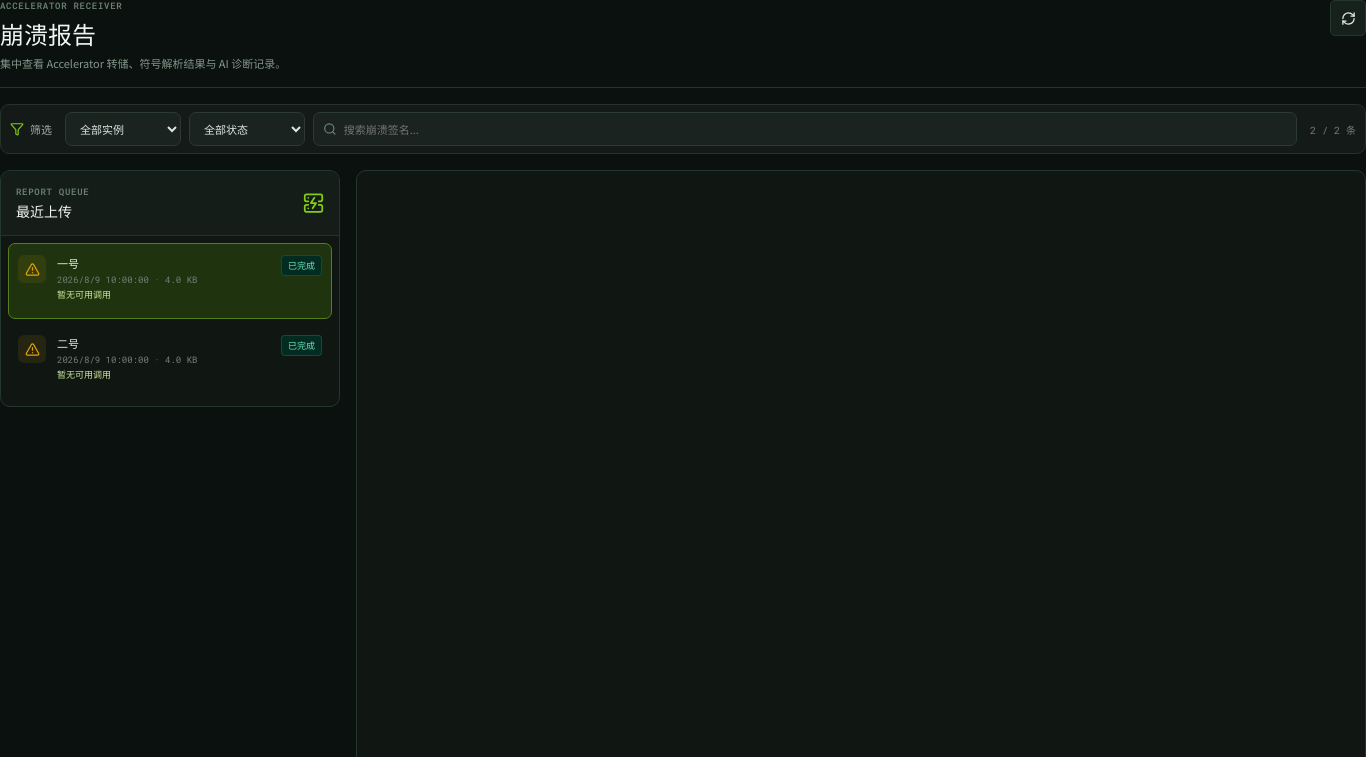
Test case: CrashReportsPage › filters reports by instance and signature
Expected: the number of list items is 2, [8, 243, 332, 319]; [8, 323, 332, 399]
Select "二号" in the dropdown named "筛选实例" at (123, 129), box [65, 112, 181, 146]
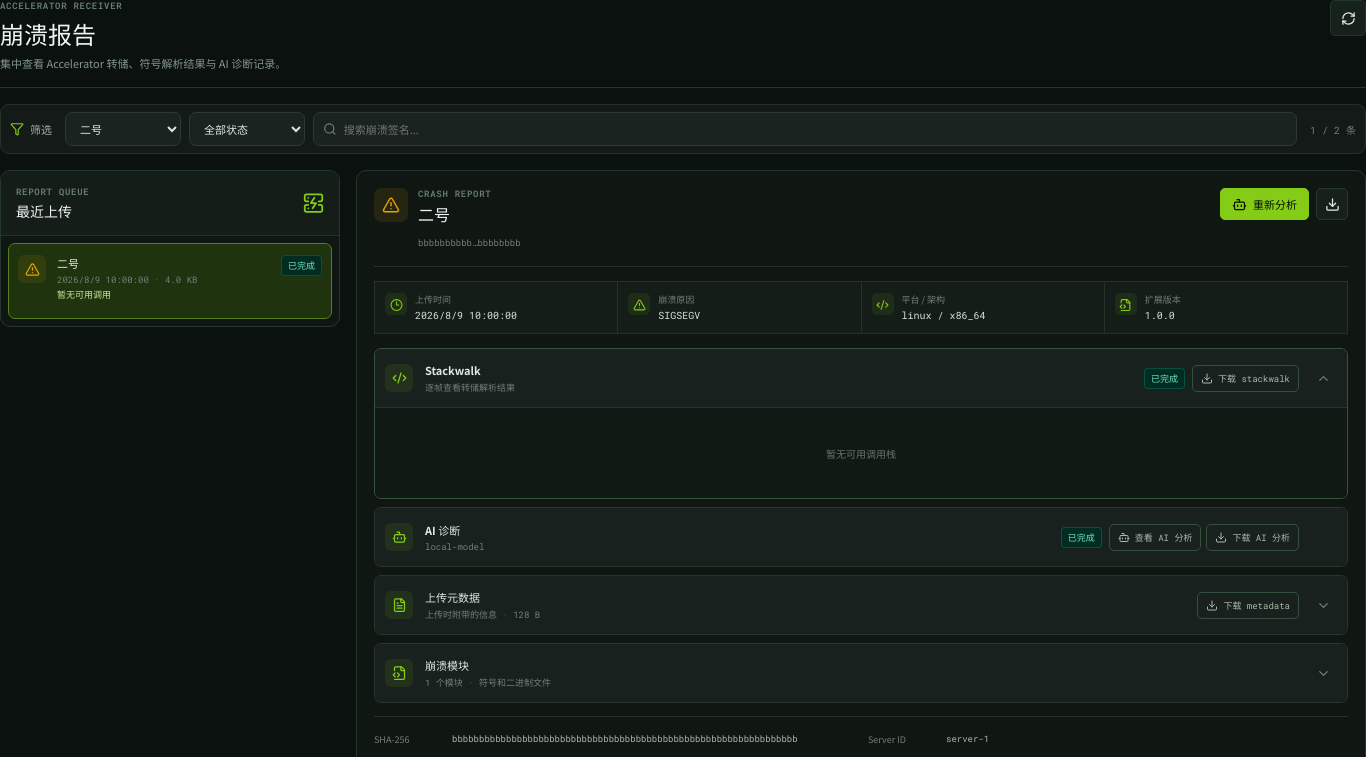
Type "ACCESS_VIOLATION" into the search field labelled "搜索崩溃签名" at (815, 129), box [344, 113, 1287, 145]
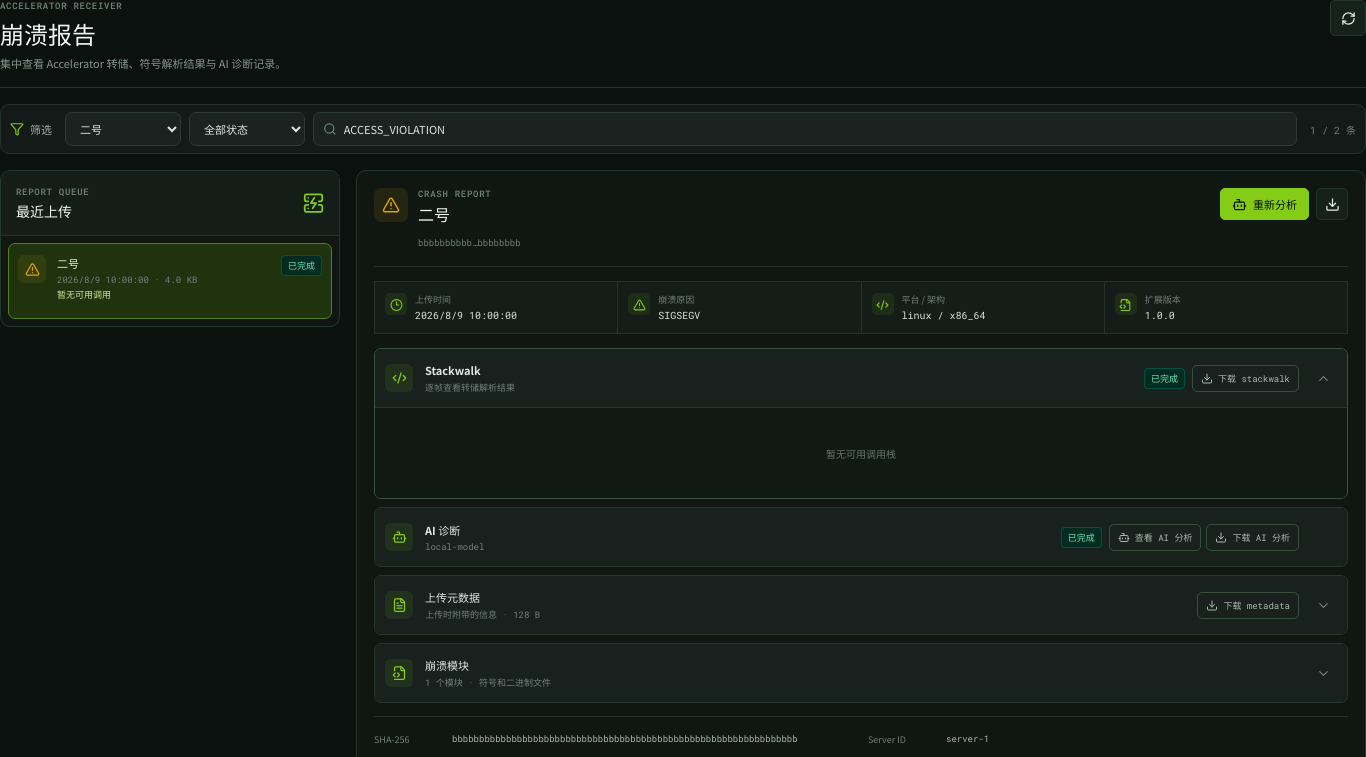
Click the button named "展开上传元数据" at (1323, 605), box [1309, 589, 1337, 621]
(page scrolled)
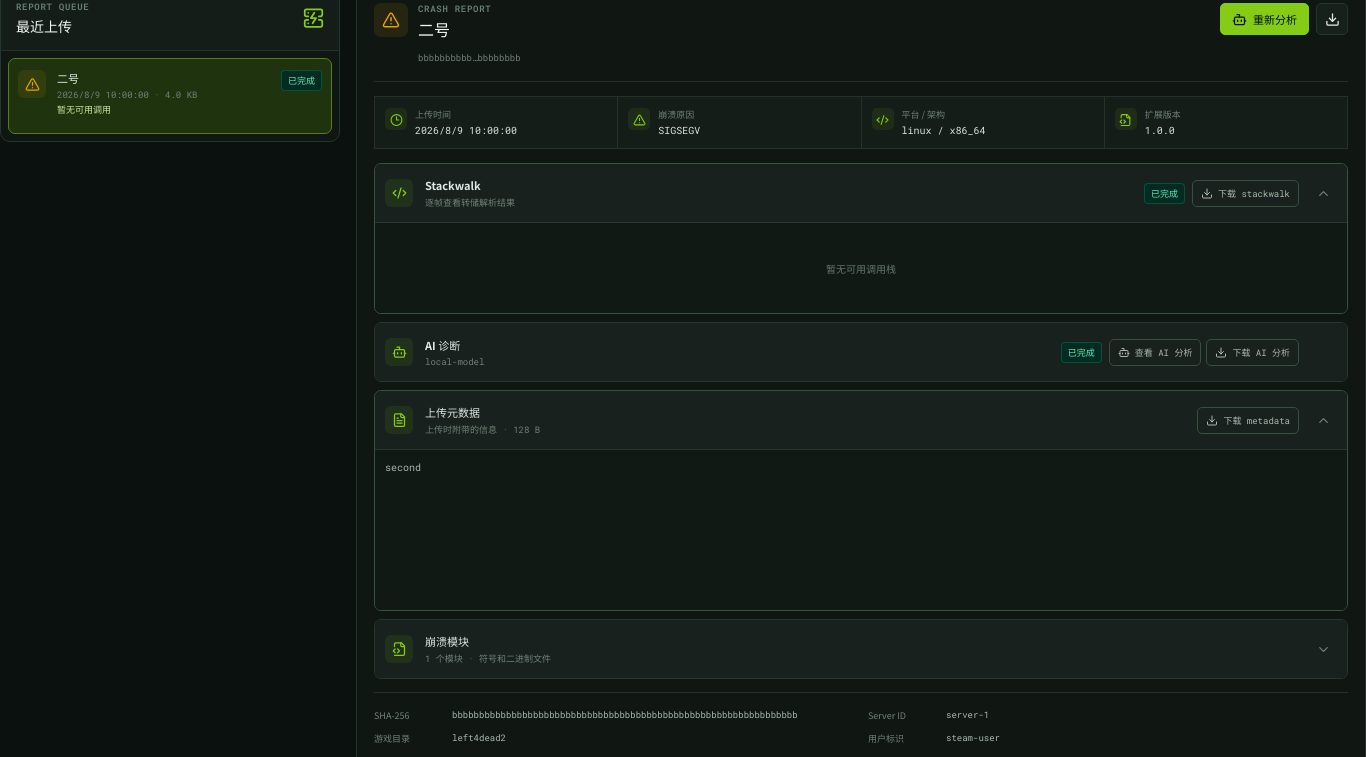
Expected: the text "second" is shown, [385, 461, 421, 474]
